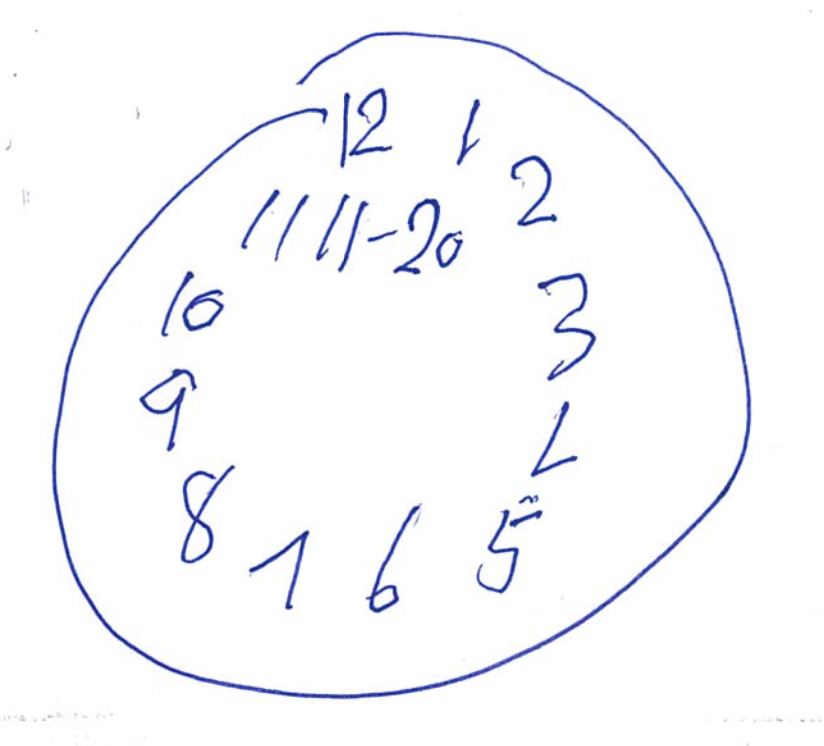1: (455, 91, 481, 169)
10: (156, 261, 225, 341)
11: (238, 186, 308, 265)
12: (335, 81, 392, 167)
2: (500, 154, 565, 228)
3: (536, 269, 600, 382)
5: (474, 501, 542, 605)
6: (365, 492, 422, 620)
7: (240, 526, 308, 613)
8: (176, 462, 237, 564)
9: (139, 369, 194, 454)
contour: (46, 28, 754, 703)
